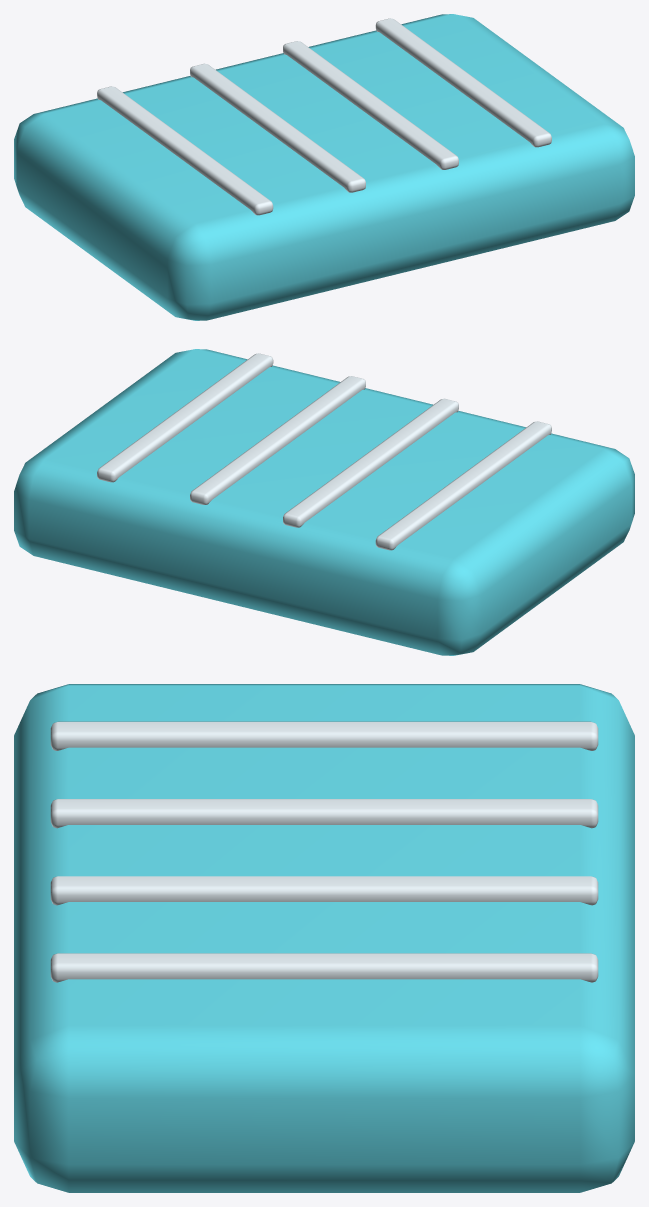
File: GlassSlab.fbx
The picture shows the model from 3 angles, top to bottom: view 1: azimuth 30°, elevation 25°; view 2: azimuth 150°, elevation 25°; view 3: azimuth 270°, elevation 25°; orthographic projection. The views are drawn at different scales.
Parts seen in each view (by area): view 1: Slab; view 2: Slab; view 3: Slab.
Boxes of the visible parts, left/top/right/bottom form: Slab: left=14, top=14, right=634, bottom=320; Slab: left=14, top=349, right=634, bottom=655; Slab: left=14, top=684, right=634, bottom=1192.
Bounding box in the file's own units: 0.5 × 0.108 × 0.34.
